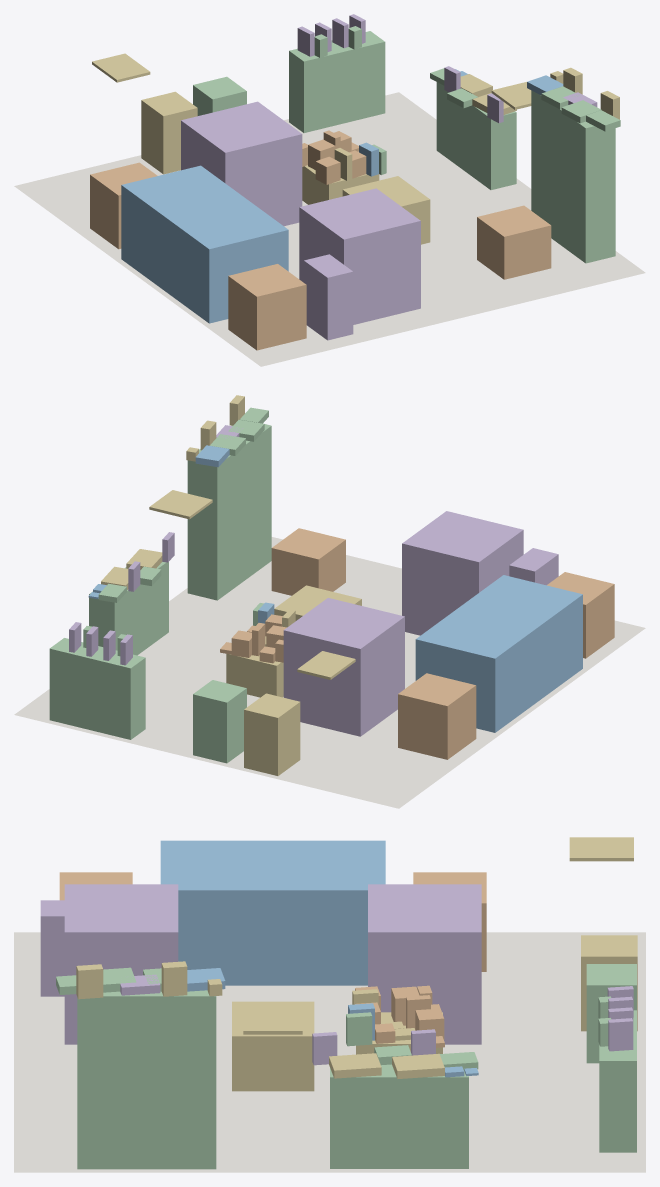
File: layout.glb
3 views of the same model, one above another, from view 1: azimuth 30°, elevation 25°; view 2: azimuth 150°, elevation 25°; view 3: azimuth 270°, elevation 25° (orthographic). The views are drawn at different scales.
Parts seen in each view (by area): view 1: room_extent_proxy, obj_0000, obj_0003, obj_0006, obj_0004, obj_0005, obj_0008, obj_0001, obj_0011, obj_0007, obj_0012, obj_0009 (+8 smaller); view 2: room_extent_proxy, obj_0000, obj_0004, obj_0006, obj_0003, obj_0005, obj_0009, obj_0011, obj_0012, obj_0001, obj_0013, obj_0008 (+5 smaller); view 3: room_extent_proxy, obj_0000, obj_0006, obj_0004, obj_0001, obj_0003, obj_0010, obj_0005, obj_0013, obj_0007, obj_0012, obj_0038 (+20 smaller).
Boxes of the visible parts, x1,y1,x2,y2 form: room_extent_proxy: [14, 92, 645, 366]; obj_0000: [121, 165, 288, 323]; obj_0003: [299, 188, 420, 324]; obj_0006: [531, 83, 615, 263]; obj_0004: [181, 101, 302, 226]; obj_0005: [289, 31, 385, 132]; obj_0008: [228, 264, 306, 350]; obj_0001: [436, 82, 516, 189]; obj_0011: [477, 205, 551, 279]; obj_0007: [304, 254, 353, 340]; obj_0012: [141, 91, 197, 174]; obj_0009: [90, 162, 157, 249]; room_extent_proxy: [14, 537, 645, 808]; obj_0000: [415, 575, 582, 732]; obj_0004: [283, 598, 404, 736]; obj_0006: [187, 424, 271, 600]; obj_0003: [402, 511, 523, 635]; obj_0005: [49, 638, 145, 739]; obj_0009: [398, 673, 476, 759]; obj_0011: [271, 528, 345, 595]; obj_0012: [244, 693, 300, 775]; obj_0001: [89, 562, 168, 655]; obj_0013: [193, 680, 246, 763]; obj_0008: [547, 572, 614, 658]; room_extent_proxy: [14, 932, 645, 1172]; obj_0000: [160, 840, 385, 985]; obj_0006: [77, 990, 216, 1169]; obj_0004: [368, 884, 481, 1044]; obj_0001: [330, 1064, 468, 1168]; obj_0003: [64, 884, 178, 1044]; obj_0010: [232, 1001, 314, 1091]; obj_0005: [599, 1010, 636, 1152]; obj_0013: [586, 964, 636, 1063]; obj_0007: [40, 900, 64, 996]; obj_0012: [581, 935, 637, 1031]; obj_0038: [243, 1006, 302, 1034].
Size of the model in its own units: 4.5 by 1.76 by 5.
